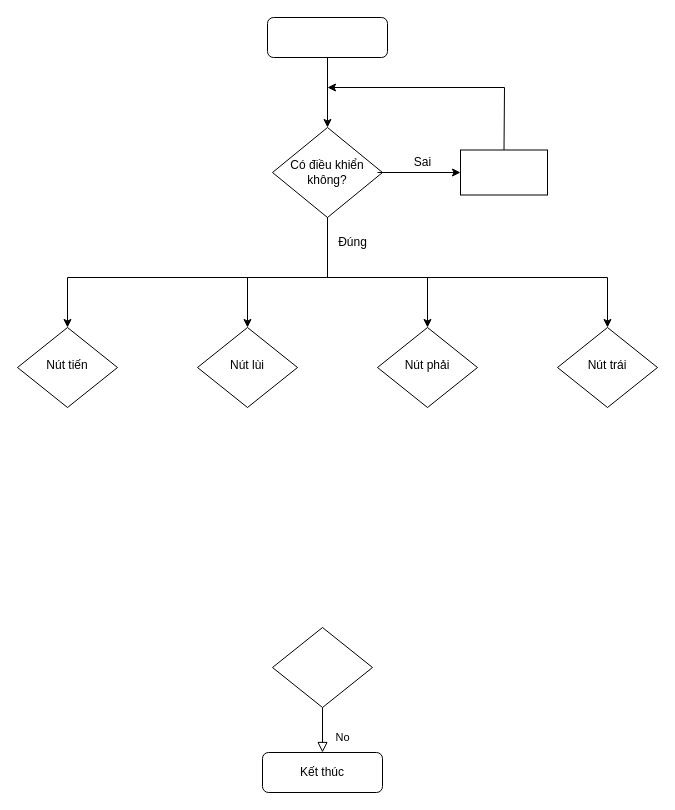
Some shapes in this 675 by 810 pixel diagram are drawn without their labels. Here are the shapes that lost their labels. From the top down, the centre of each, then its label:
At point 327,37: "Bắt đầu".
At point 504,172: "Dừng lại".
At point 322,667: "Bulb burned out?".
